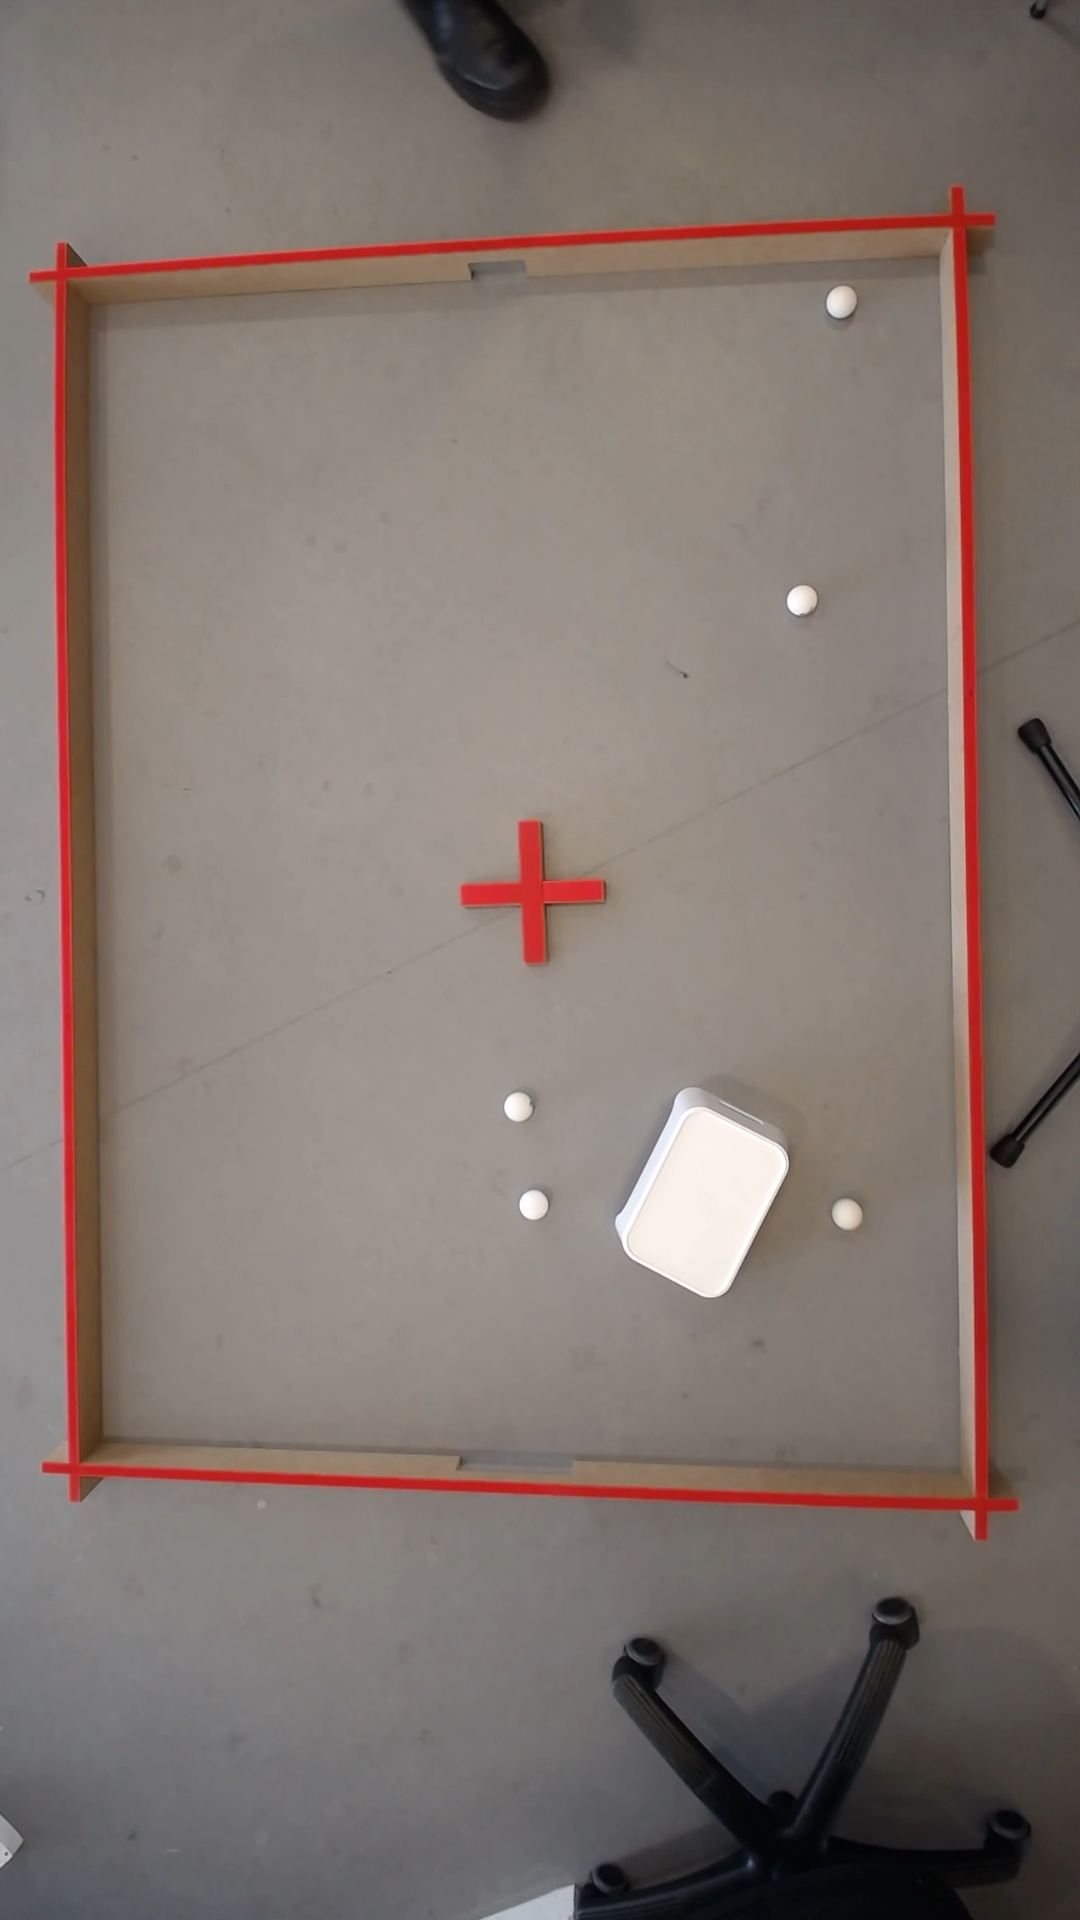balls: (600, 1089, 796, 1304), (513, 1185, 550, 1222), (781, 580, 816, 617), (498, 1089, 533, 1125), (820, 284, 852, 319)
car: (836, 1204, 853, 1226)
